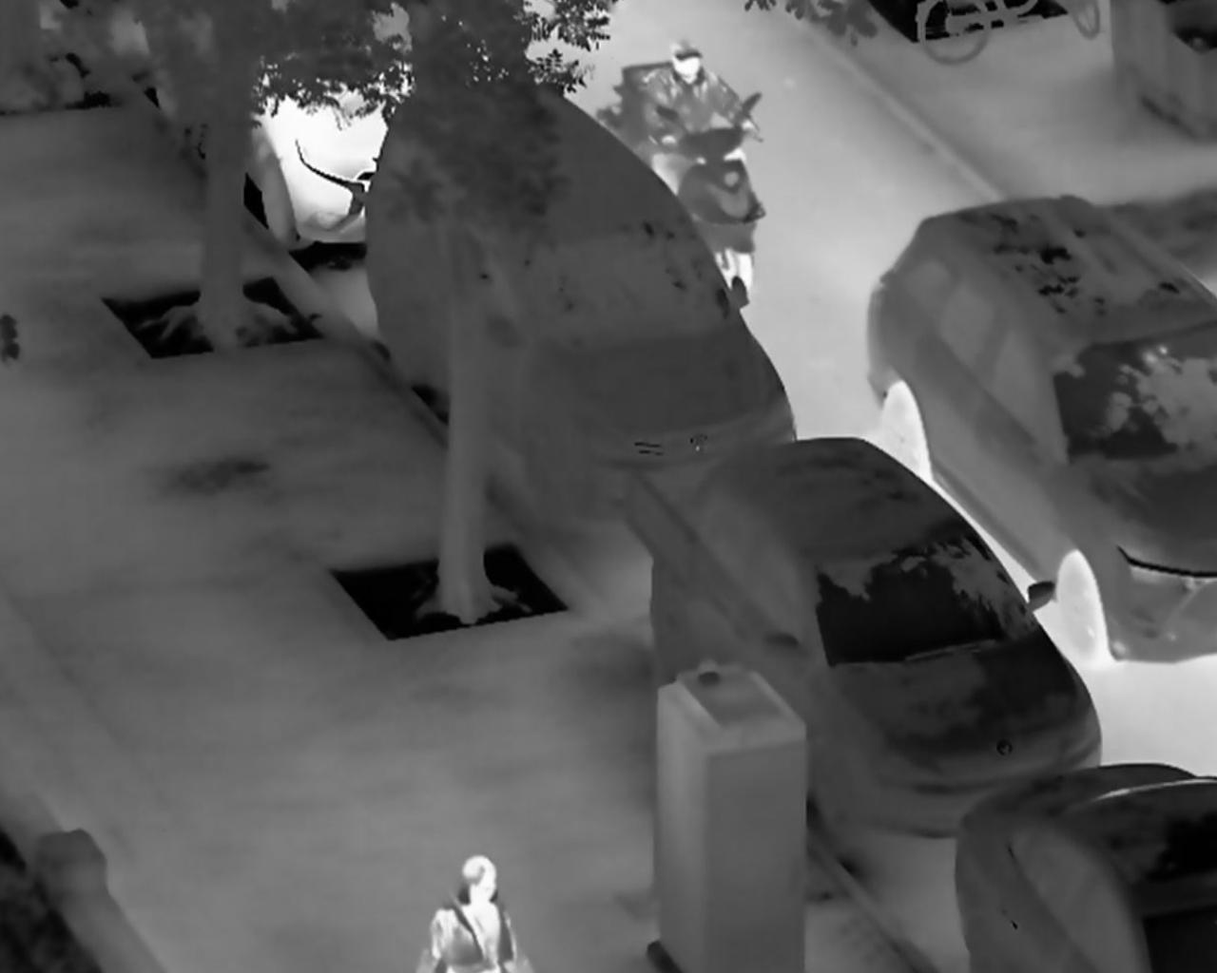person: (643, 35, 761, 200), (421, 853, 540, 973)
